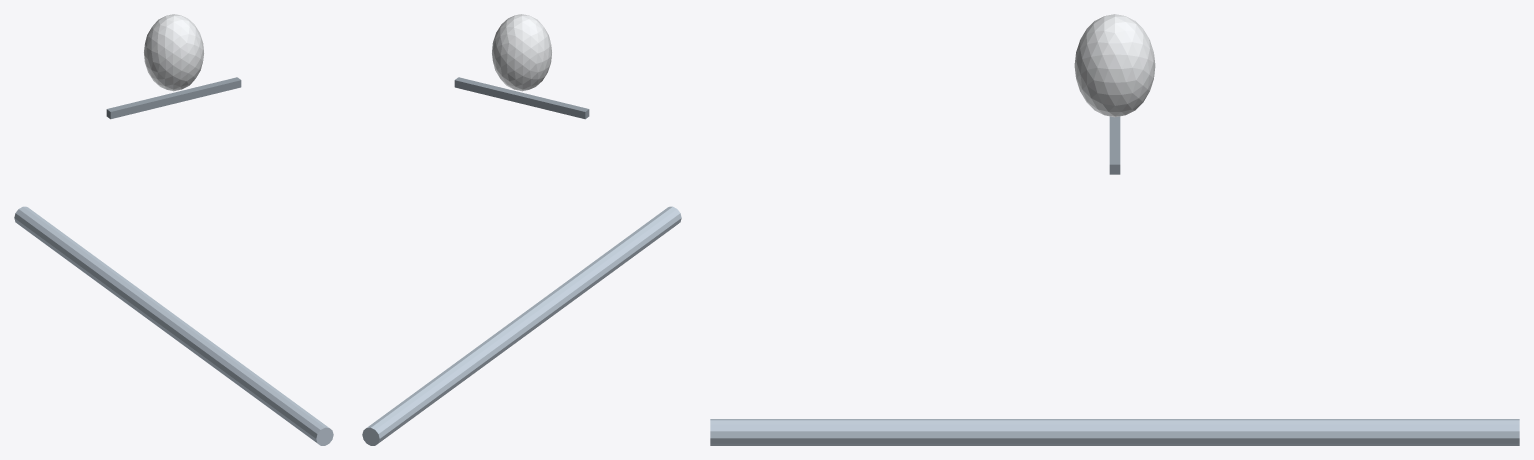
Rendered from antena_azotea.glb.
3 renders of one model, left to right at view 1: azimuth 30°, elevation 25°; view 2: azimuth 150°, elevation 25°; view 3: azimuth 270°, elevation 25°, orthographic. The views are drawn at different scales.
Visible parts, largest first — view 1: Antenna_1, Receiver_3, TopBar_2; view 2: Antenna_1, Receiver_3, TopBar_2; view 3: Antenna_1, Receiver_3.
Part boxes in pixels (x1,y1,x2,y2): Antenna_1: (14,206,333,445); Receiver_3: (144,14,203,91); TopBar_2: (106,77,241,119); Antenna_1: (362,206,681,445); Receiver_3: (492,14,551,91); TopBar_2: (454,77,589,119); Antenna_1: (710,419,1519,445); Receiver_3: (1074,14,1155,117).
Bounding box in the file's own units: 1.5 × 3.5 × 6.
